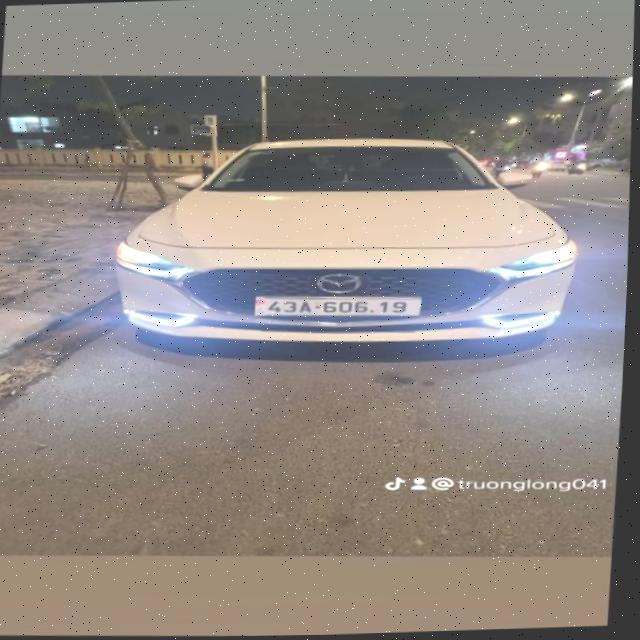car: (94, 116, 620, 376)
plate: (247, 283, 426, 330)
